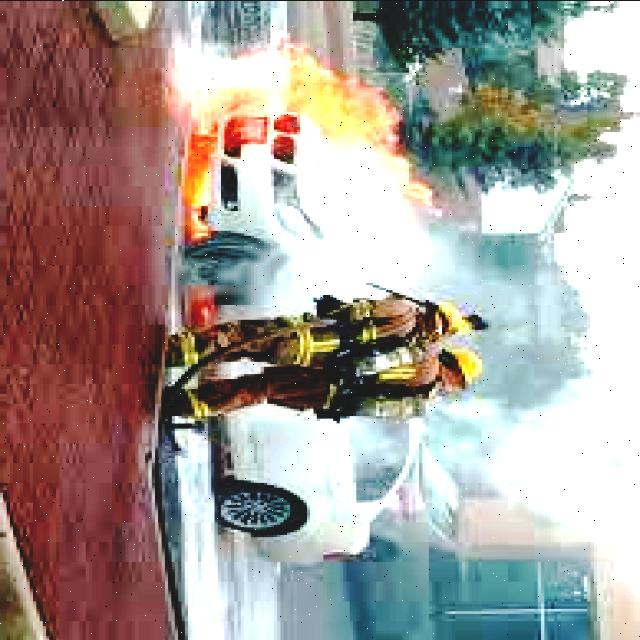api: (176, 33, 453, 231)
